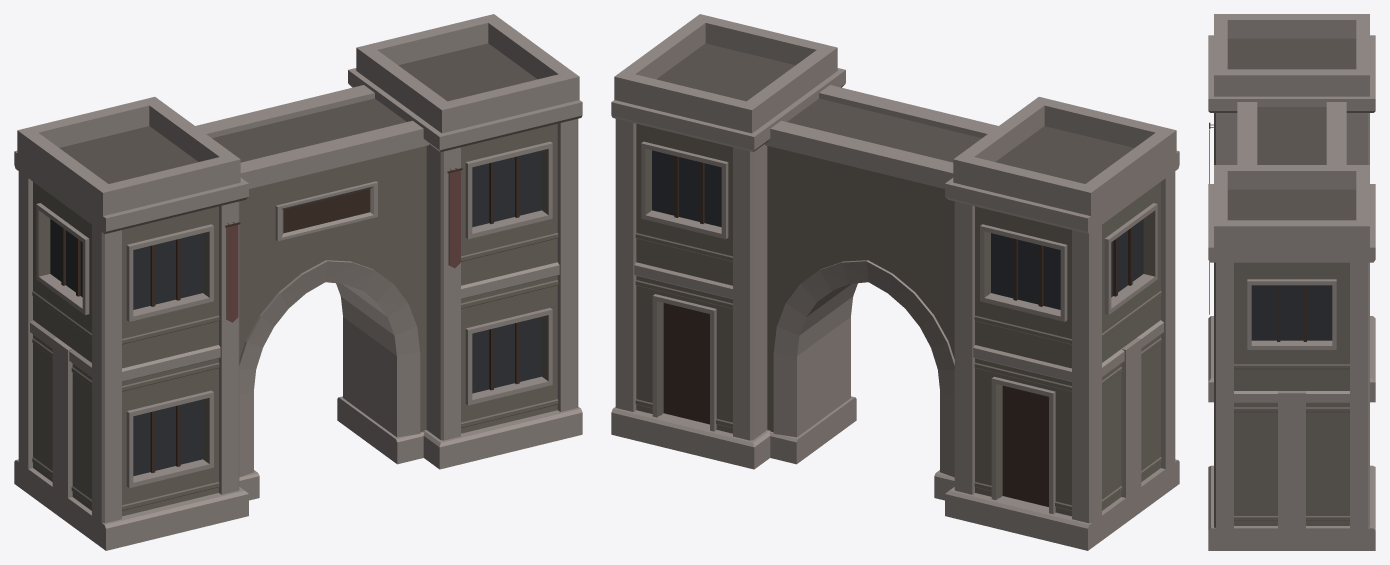
The model's file is main-gate-arch-with-738ddb.glb.
The picture shows the model from 3 angles, left to right: view 1: azimuth 30°, elevation 25°; view 2: azimuth 150°, elevation 25°; view 3: azimuth 270°, elevation 25°; orthographic projection. The views are drawn at different scales.
Size of the model in its own units: 9 by 6.42 by 3.
